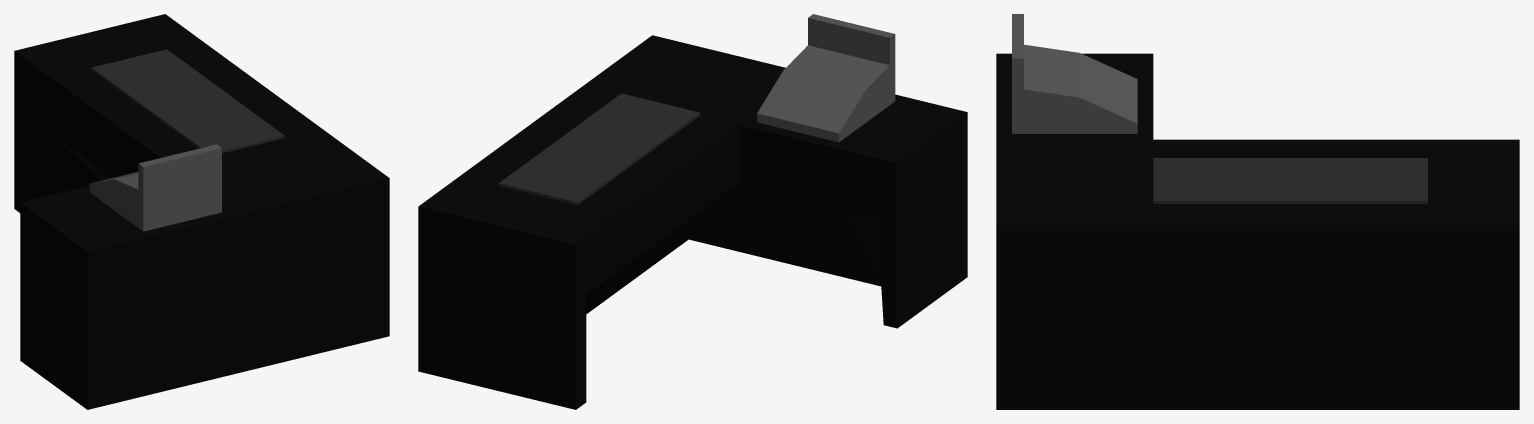
Rendered from BasicCheckout.gltf.
3 views of the same model, side by side, from view 1: azimuth 30°, elevation 25°; view 2: azimuth 150°, elevation 25°; view 3: azimuth 270°, elevation 25° (orthographic). The views are drawn at different scales.
Visible parts, largest first — view 1: BasicCheckout -col; view 2: BasicCheckout -col; view 3: BasicCheckout -col.
Part boxes in pixels (x1,y1,x2,y2): BasicCheckout -col: (14,14,389,409); BasicCheckout -col: (418,14,967,409); BasicCheckout -col: (996,14,1519,409).
Size of the model in its own units: 1.4 by 0.9857 by 1.8.
Materials: 1 (1 with a texture image).
